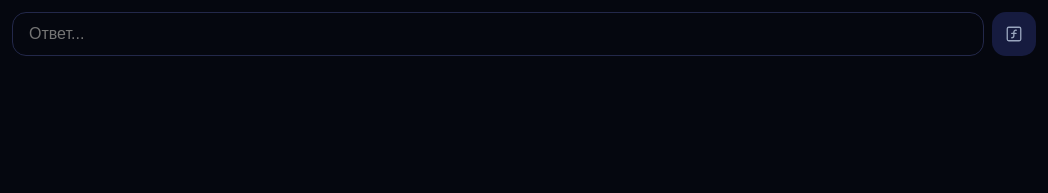
it: MathAnswerField › inserts sin( ) with the cursor left between the parens, not after them
Click the button named "Математические символы" at (1014, 34), box [992,12,1036,56]
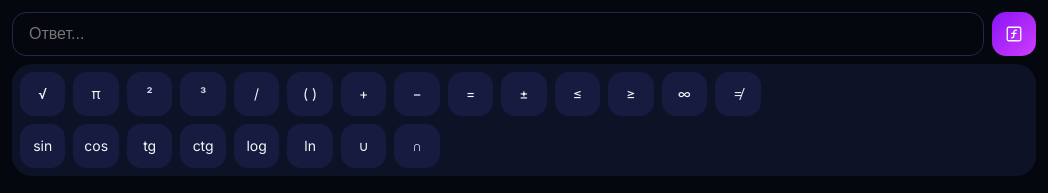
Click the button "sin" at (43, 146), box [20,124,66,168]
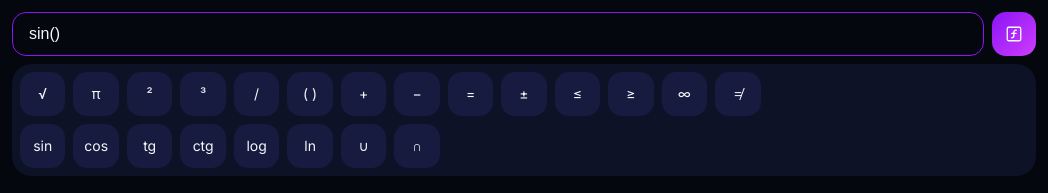
Expected: the field showing "sin()" is shown
Type "x" into the field showing "sin()" at (498, 34), box [12,12,984,56]
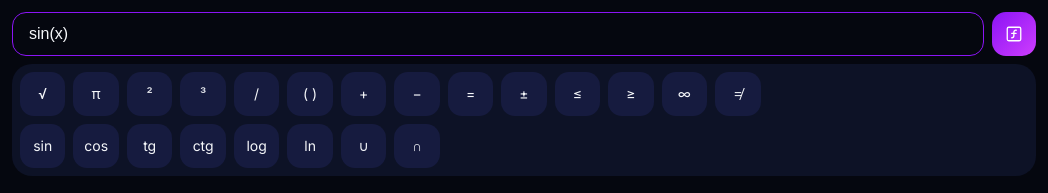
Expected: the field showing "sin()" holds "sin(x)", [12,12,984,56]
